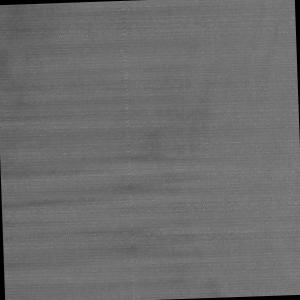Wrinkle: (1, 99, 263, 300)
